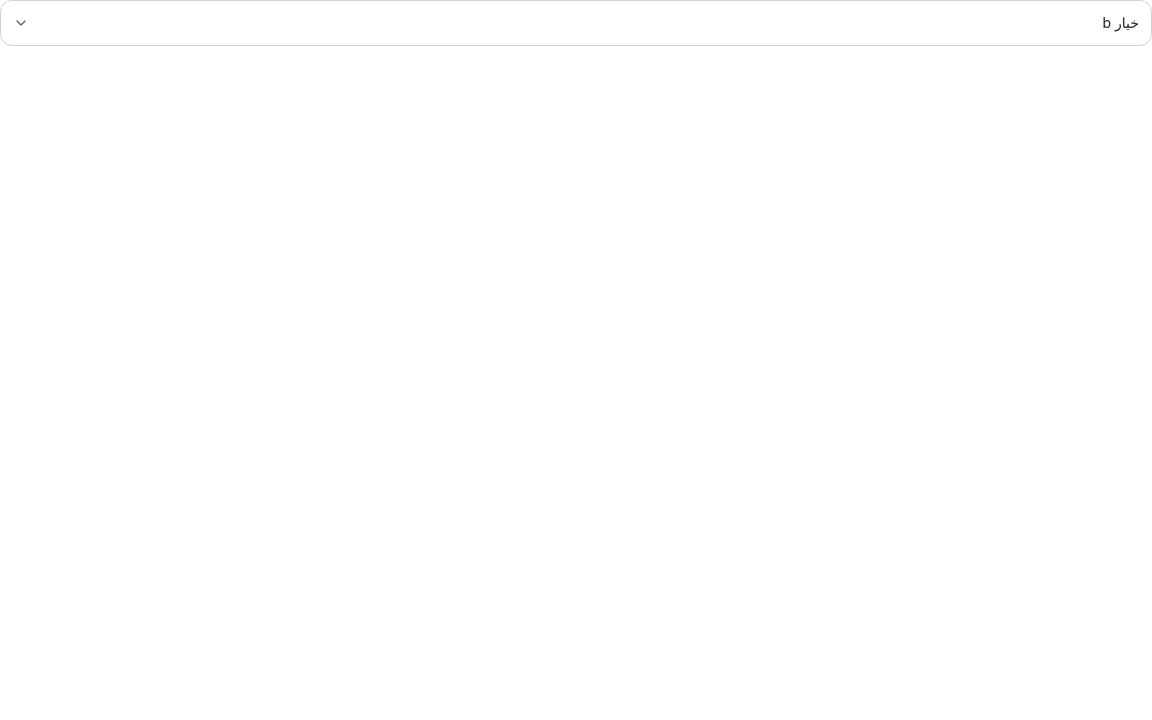
Test: imd_table_tools_test › ImdSelect يفتح نافذةً كبيرة ببحثٍ ويختار منها
Expected: the text "خيار b" is shown, 1103,14 -> 1139,31
Click the button "خيار b" at (1107, 22), box 0,0 -> 1151,46
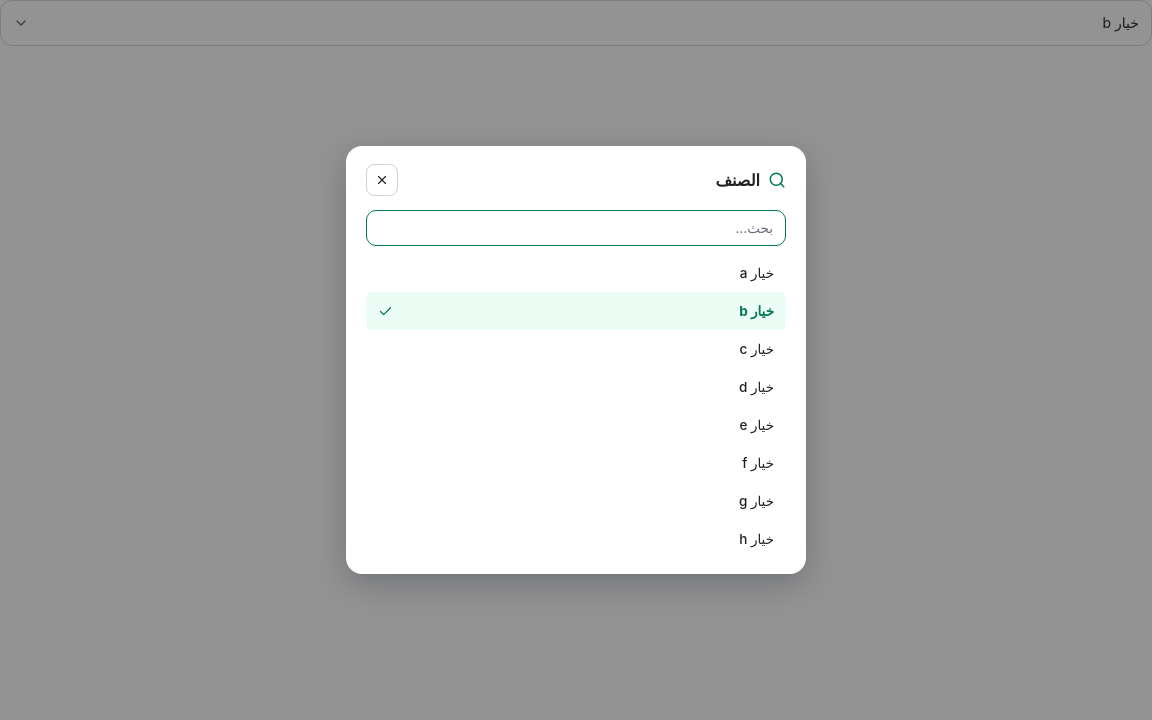
Expected: the dialog is shown
Expected: the text "خيار h" is shown, 739,531 -> 774,547
Type "خيار h" into the field with placeholder "بحث…" at (576, 228), box 379,218 -> 773,237
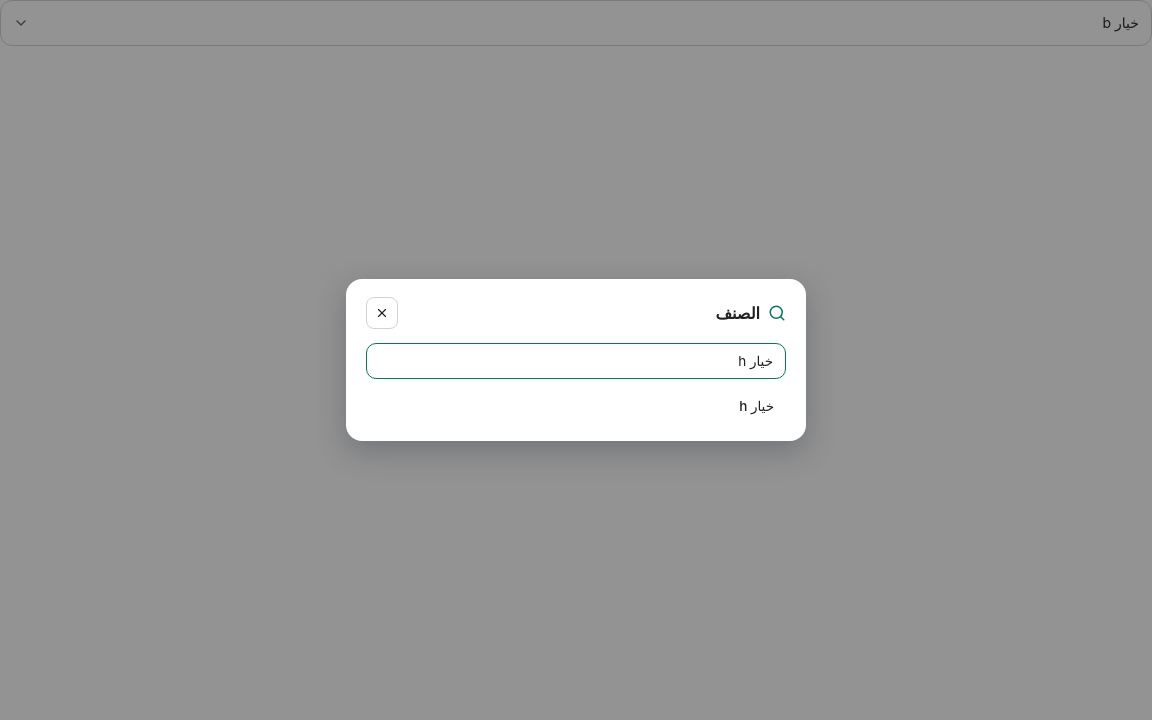
Expected: the button "خيار a" is gone
Click the button "خيار h" at (743, 406), box 366,387 -> 786,425
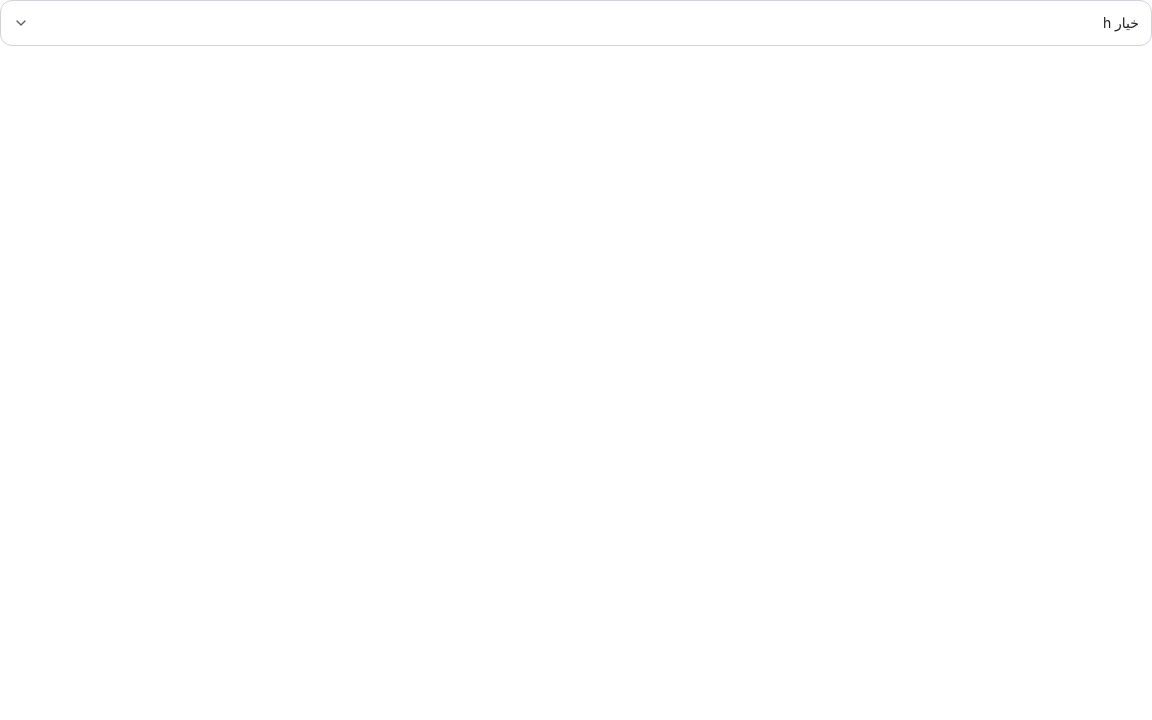
Expected: the dialog is gone
Expected: the text "خيار h" is shown, 1103,14 -> 1139,31
